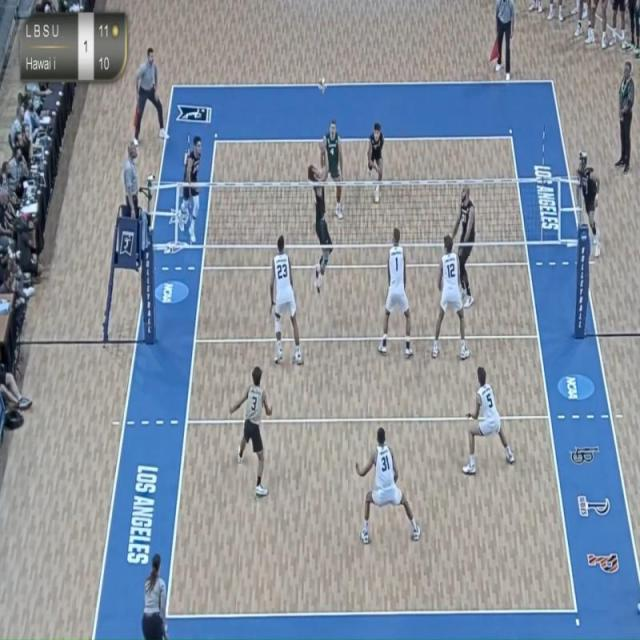volleyball: (315, 74, 330, 96)
